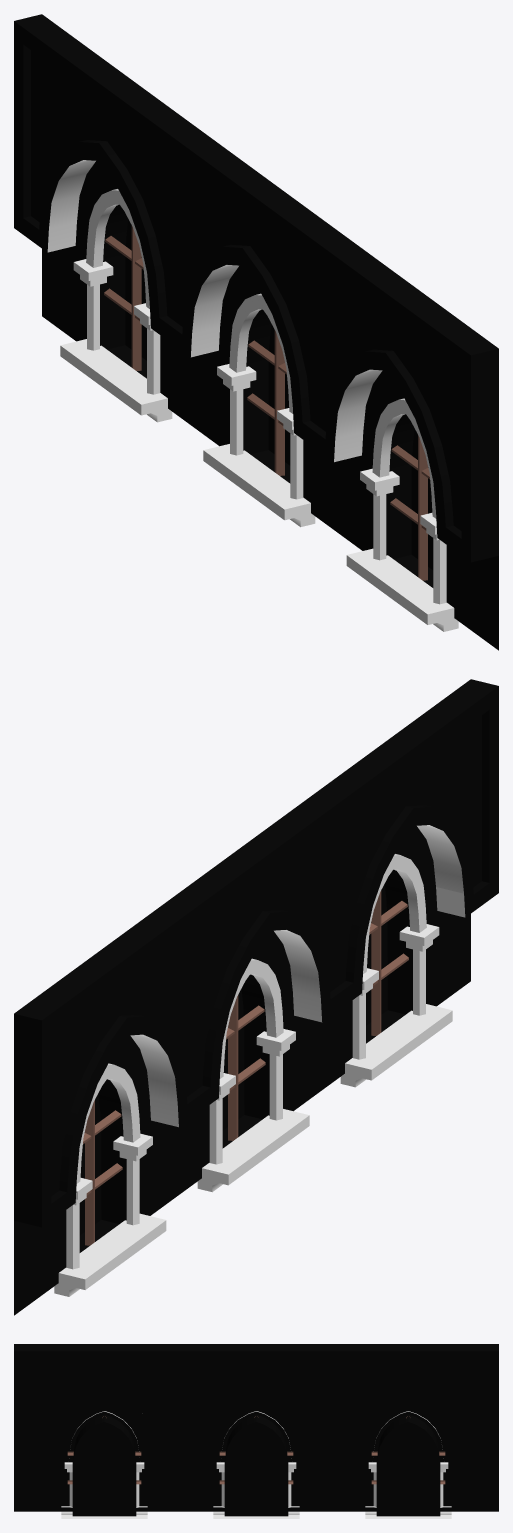
The model's file is StandardWindow05.fbx.
The picture shows the model from 3 angles, top to bottom: view 1: azimuth 30°, elevation 25°; view 2: azimuth 150°, elevation 25°; view 3: azimuth 270°, elevation 25°; orthographic projection. The views are drawn at different scales.
Parts seen in each view (by area): view 1: standard_window_23; view 2: standard_window_23; view 3: standard_window_23.
Boxes of the visible parts, left/top/right/bottom form: standard_window_23: left=14, top=14, right=498, bottom=650; standard_window_23: left=14, top=679, right=498, bottom=1315; standard_window_23: left=14, top=1344, right=498, bottom=1518.
Size of the model in its own units: 70.92 by 379 by 1000.
